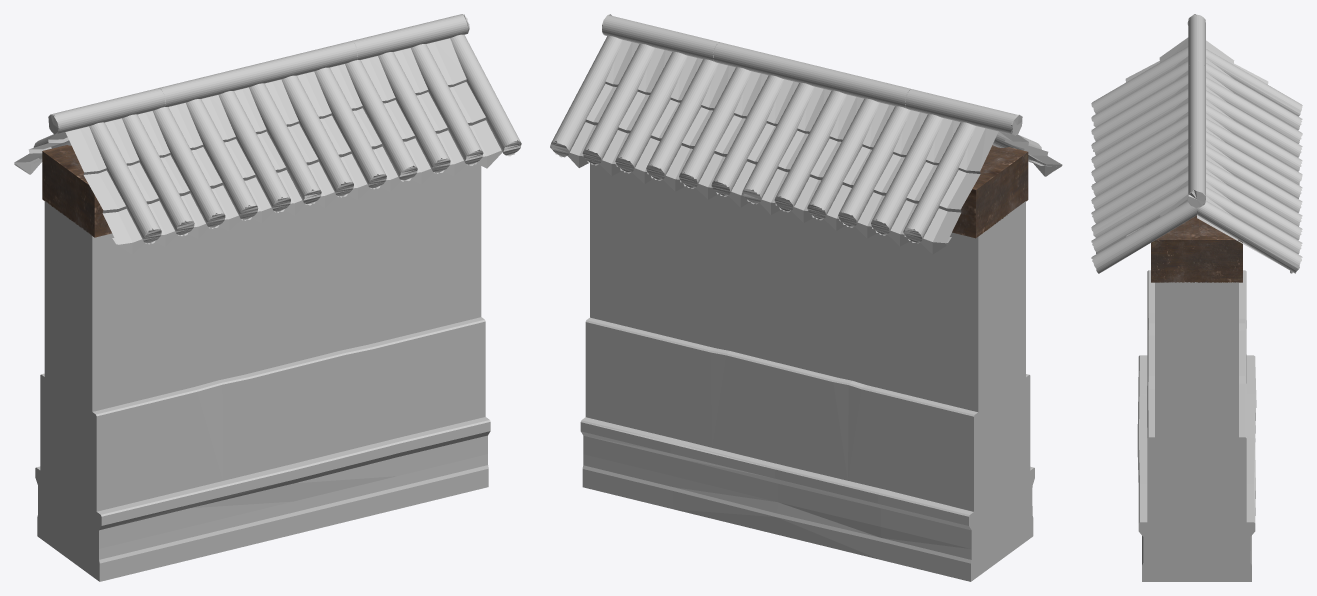
The model's file is GongTingWall_2.fbx.
The picture shows the model from 3 angles, left to right: view 1: azimuth 30°, elevation 25°; view 2: azimuth 150°, elevation 25°; view 3: azimuth 270°, elevation 25°; orthographic projection. The views are drawn at different scales.
Visible parts, largest first — view 1: 3D_GongTingWall3.mo; view 2: 3D_GongTingWall3.mo; view 3: 3D_GongTingWall3.mo.
Boxes of the visible parts, left/top/right/bottom form: 3D_GongTingWall3.mo: left=14, top=14, right=521, bottom=581; 3D_GongTingWall3.mo: left=550, top=14, right=1062, bottom=581; 3D_GongTingWall3.mo: left=1091, top=14, right=1302, bottom=581.
Bounding box in the file's own units: 493 × 512 × 248.
